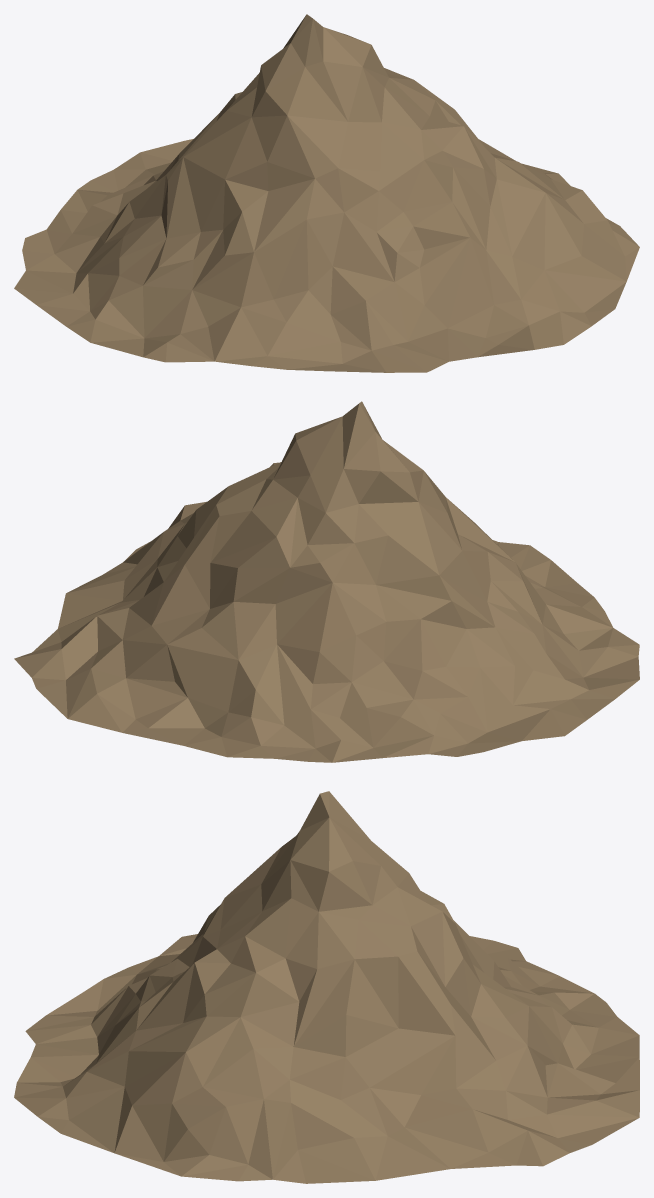
The model's file is SmallTerrain01.fbx.
3 renders of one model, top to bottom at view 1: azimuth 30°, elevation 25°; view 2: azimuth 150°, elevation 25°; view 3: azimuth 270°, elevation 25°, orthographic. The views are drawn at different scales.
Visible parts, largest first — view 1: SmallTerrain01; view 2: SmallTerrain01; view 3: SmallTerrain01.
Part boxes in pixels (x1,y1,x2,y2): SmallTerrain01: [14, 14, 639, 372]; SmallTerrain01: [14, 401, 639, 762]; SmallTerrain01: [14, 791, 639, 1183].
Bounding box in the file's own units: 37.42 × 17.27 × 37.34.
